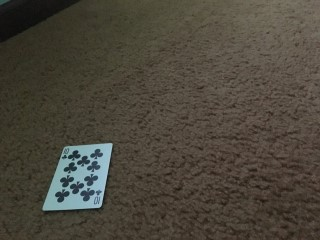TenOfClubs: (42, 143, 112, 212)
